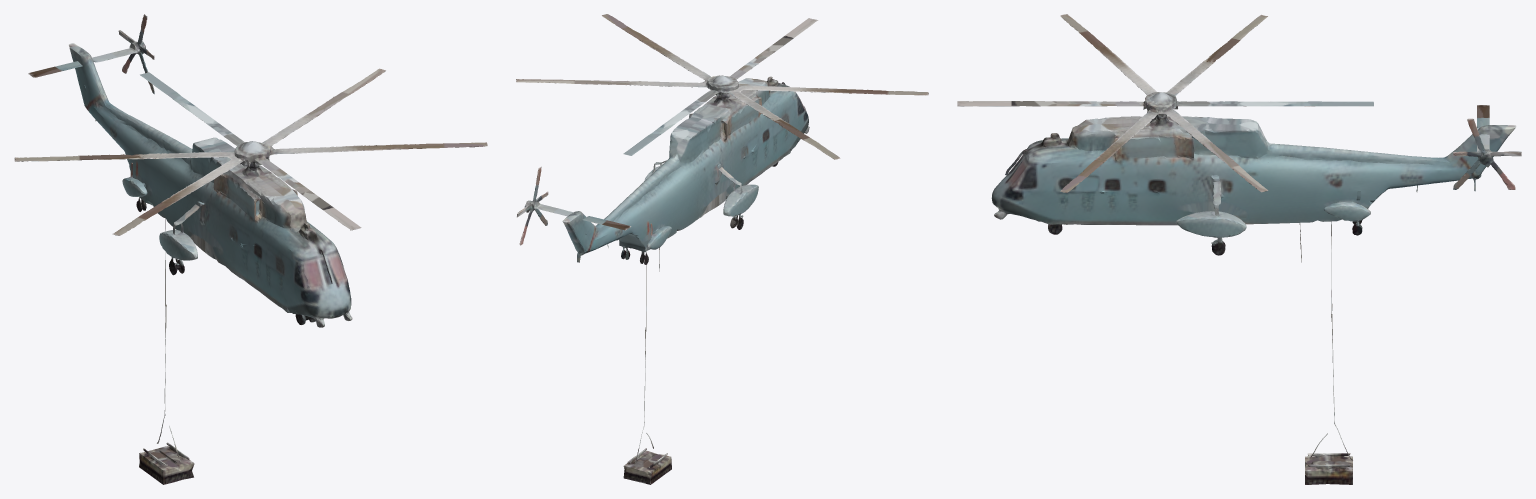
Rendered from Norinco_Lynx_CS_VP4.glb.
The picture shows the model from 3 angles, left to right: view 1: azimuth 30°, elevation 25°; view 2: azimuth 150°, elevation 25°; view 3: azimuth 270°, elevation 25°; orthographic projection. The views are drawn at different scales.
Parts seen in each view (by area): view 1: model; view 2: model; view 3: model.
Boxes of the visible parts, left/top/right/bottom form: model: left=14, top=14, right=487, bottom=484; model: left=516, top=14, right=928, bottom=484; model: left=957, top=14, right=1521, bottom=484.
Bounding box in the file's own units: 1.42 × 1.43 × 1.9.
1 material, 1 textured.
